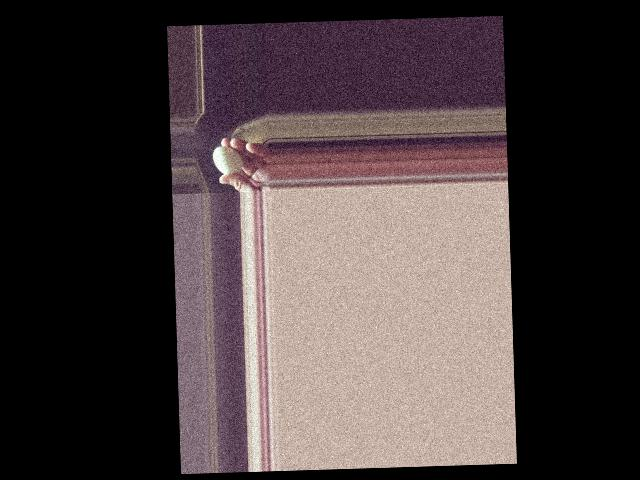egg: (212, 145, 243, 174)
